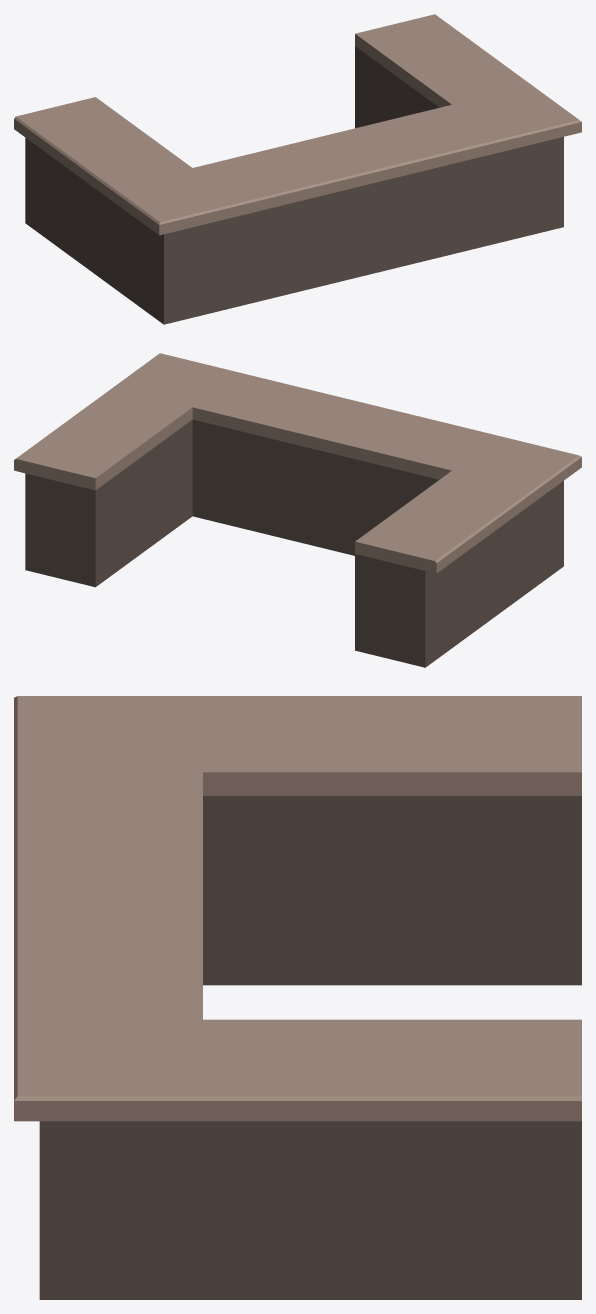
Rendered from Hibachi_Counter.fbx.
3 renders of one model, top to bottom at view 1: azimuth 30°, elevation 25°; view 2: azimuth 150°, elevation 25°; view 3: azimuth 270°, elevation 25°, orthographic. The views are drawn at different scales.
Visible parts, largest first — view 1: pCube1; view 2: pCube1; view 3: pCube1.
Part boxes in pixels (left/top/right/bottom): pCube1: left=14, top=14, right=581, bottom=324; pCube1: left=14, top=353, right=581, bottom=667; pCube1: left=14, top=696, right=581, bottom=1299.
Bounding box in the file's own units: 7.93 × 1.95 × 4.72.
